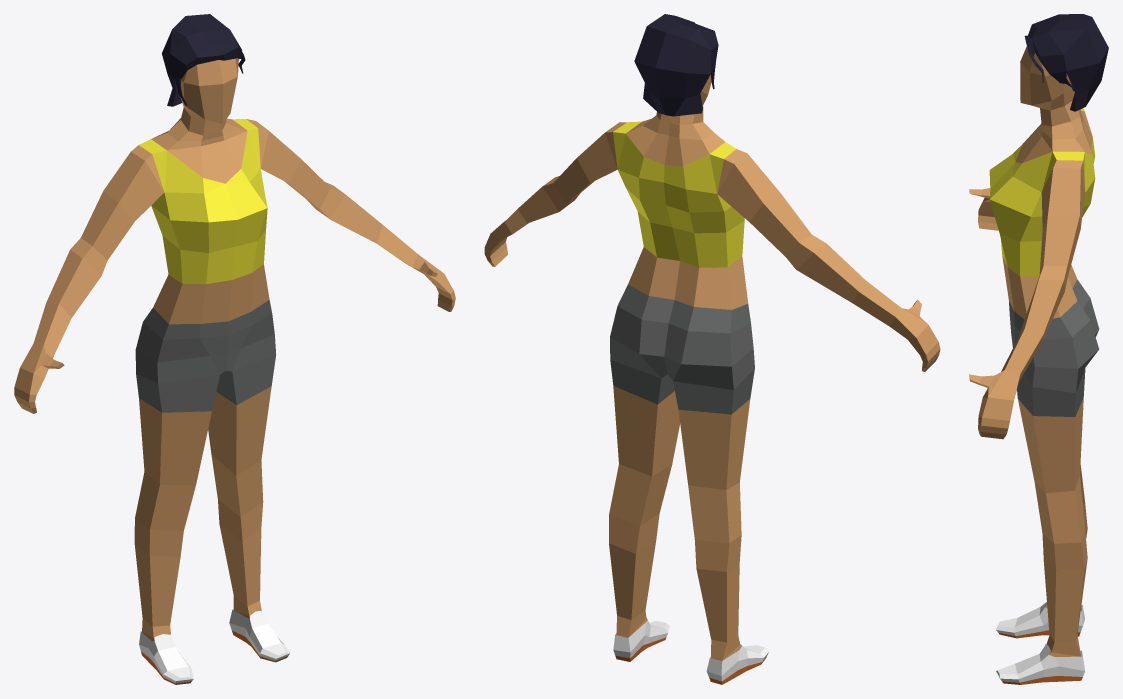
The model's file is female_03_b.fbx.
3 renders of one model, left to right at view 1: azimuth 30°, elevation 25°; view 2: azimuth 150°, elevation 25°; view 3: azimuth 270°, elevation 25°, orthographic. The views are drawn at different scales.
Parts seen in each view (by area): view 1: female_03_b; view 2: female_03_b; view 3: female_03_b.
Part boxes in pixels (x1,y1,x2,y2): female_03_b: [14, 14, 455, 684]; female_03_b: [484, 14, 940, 684]; female_03_b: [969, 14, 1108, 684].
Size of the model in its own units: 111 by 154 by 30.59.
1 material, 1 textured.
